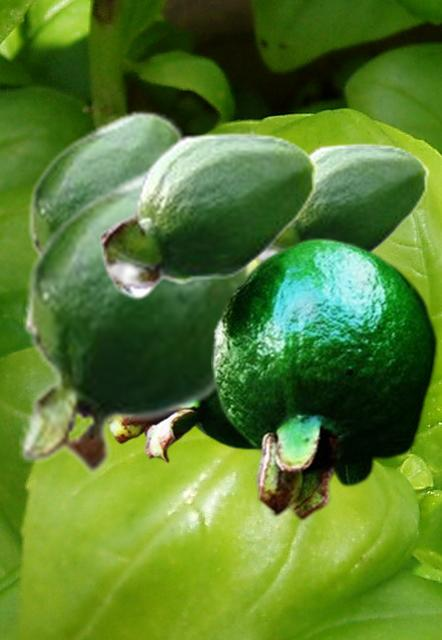guava: (19, 158, 253, 476), (211, 236, 438, 520), (23, 109, 188, 335), (99, 131, 318, 299), (254, 142, 429, 262), (110, 395, 253, 462)
